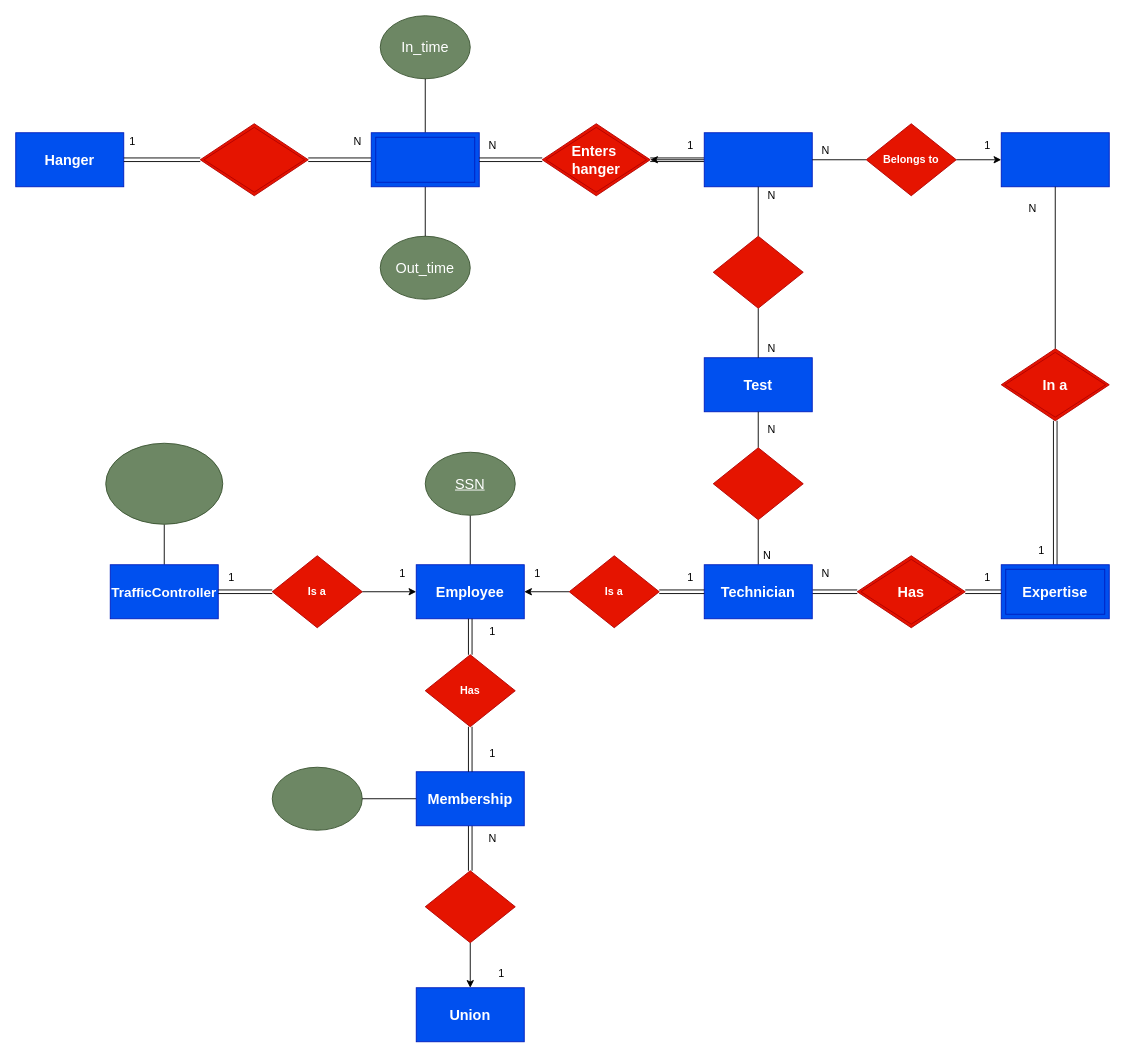
Some shapes in this 1125 by 1058 pixel diagram are drawn without their labels. The shapes that lost their labels are listed below. From the top down, each one's box as (x1, y1, x2, y2) in pixels, then its label:
(199, 123, 308, 196): Stays in
(370, 132, 479, 187): Hanger_stay
(703, 132, 812, 187): Airplane
(1000, 132, 1109, 187): PlaneModel
(712, 235, 803, 308): Applied on
(105, 442, 223, 524): last_MedicalExam_date
(712, 447, 803, 520): Performs
(271, 766, 362, 830): membership_no
(424, 870, 515, 943): In
